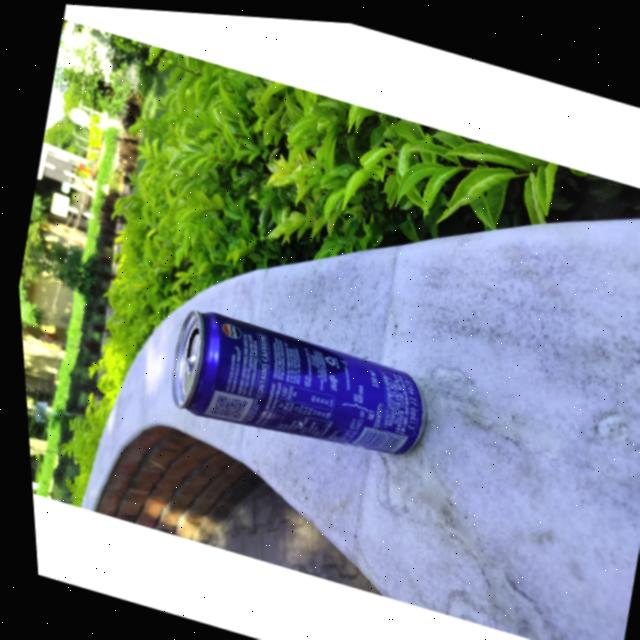Pepsi: (153, 288, 443, 481)
